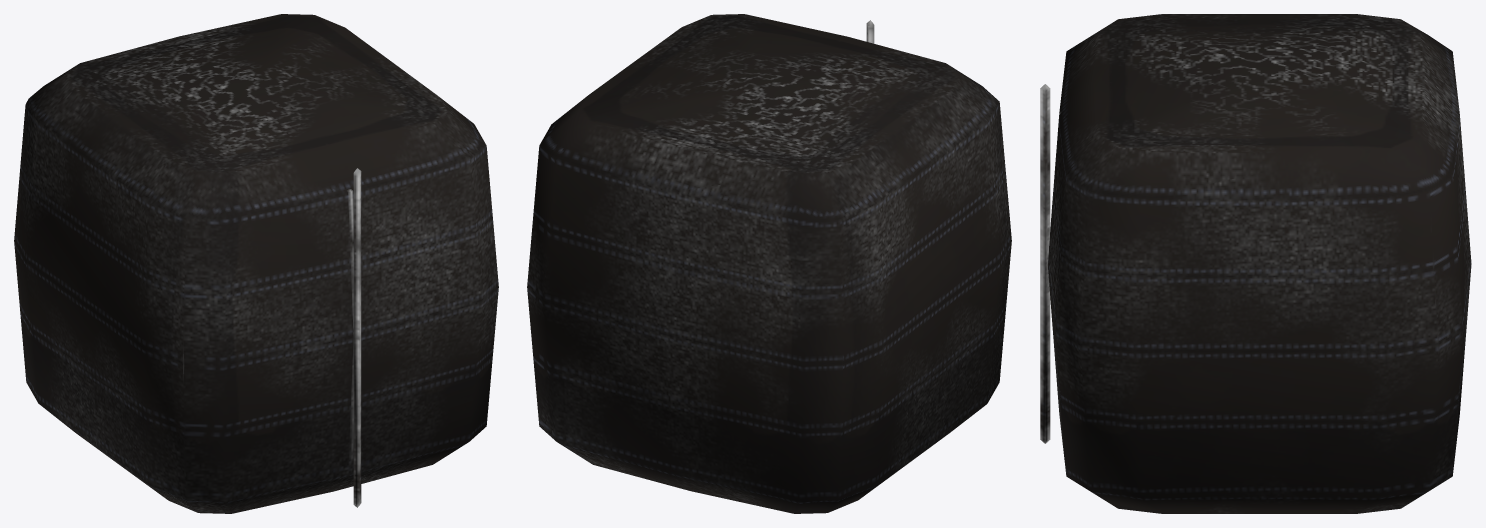
File: Maton_MangaArribaIzq.fbx
3 renders of one model, left to right at view 1: azimuth 30°, elevation 25°; view 2: azimuth 150°, elevation 25°; view 3: azimuth 270°, elevation 25°, orthographic. The views are drawn at different scales.
Visible parts, largest first — view 1: Maton_MangaArribaIzq; view 2: Maton_MangaArribaIzq; view 3: Maton_MangaArribaIzq.
Part boxes in pixels (left/top/right/bottom): Maton_MangaArribaIzq: left=14, top=14, right=498, bottom=513; Maton_MangaArribaIzq: left=527, top=14, right=1011, bottom=513; Maton_MangaArribaIzq: left=1040, top=14, right=1471, bottom=513.
Bounding box in the file's own units: 1.31 × 1.31 × 1.35.
